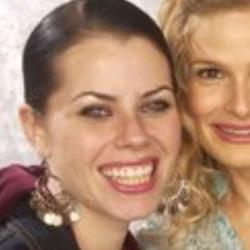face: (6, 1, 191, 221), (154, 3, 250, 201)
